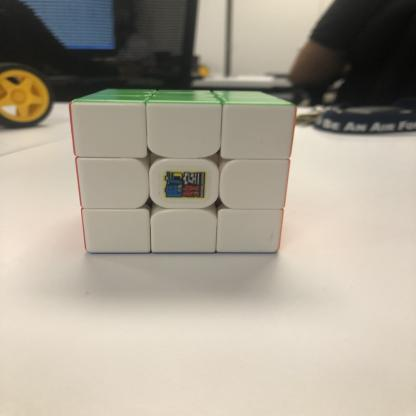SolvedCube: (68, 76, 303, 270)
